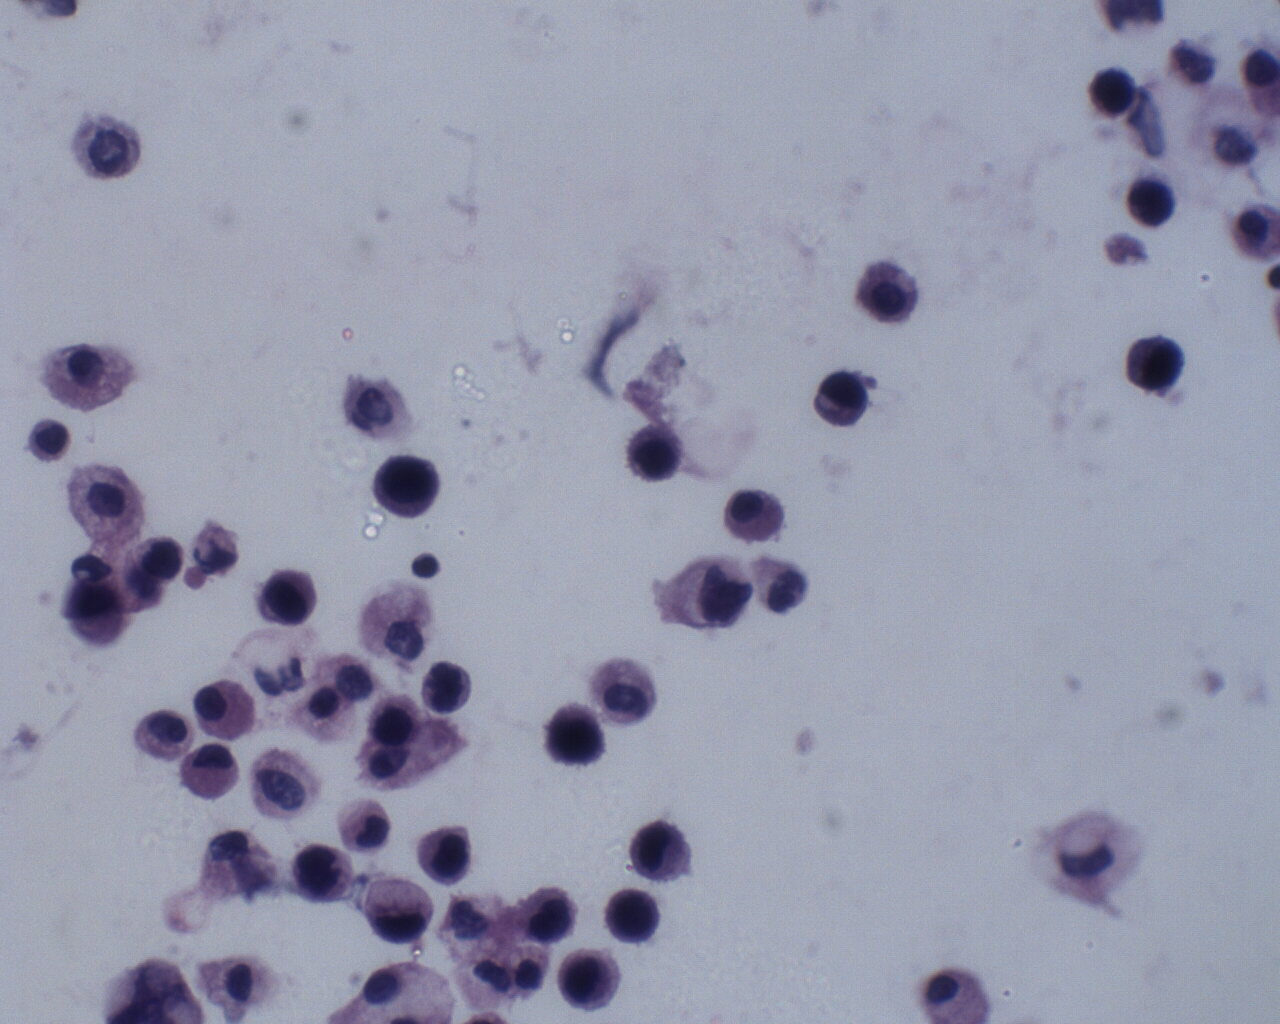ab: (369, 453, 440, 523), (558, 945, 625, 1017), (290, 839, 355, 907), (540, 704, 607, 768), (1123, 332, 1187, 398), (515, 885, 586, 944), (623, 425, 686, 489), (257, 565, 323, 627), (416, 825, 478, 887), (601, 887, 664, 947), (814, 369, 872, 433), (418, 658, 475, 718), (1083, 66, 1143, 120), (1124, 173, 1181, 230)
histo: (358, 875, 434, 945)
lymph: (409, 549, 445, 581)
meso: (64, 458, 149, 550), (40, 339, 139, 412), (854, 256, 923, 330), (190, 680, 259, 741), (721, 485, 787, 545), (179, 742, 245, 802)
